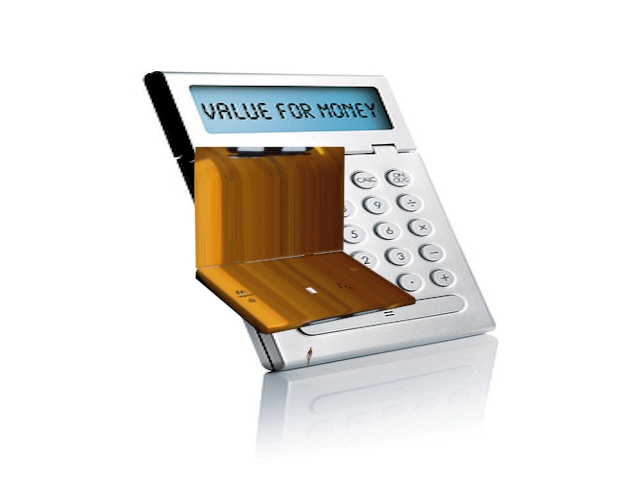laptop_computer: (192, 144, 424, 369)
